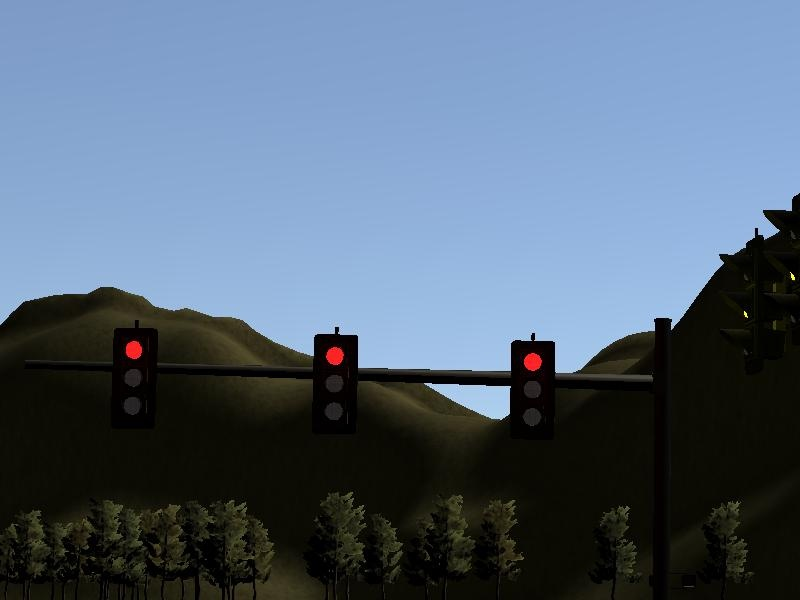RED: (510, 341, 555, 440), (311, 333, 356, 432), (110, 328, 155, 427)
